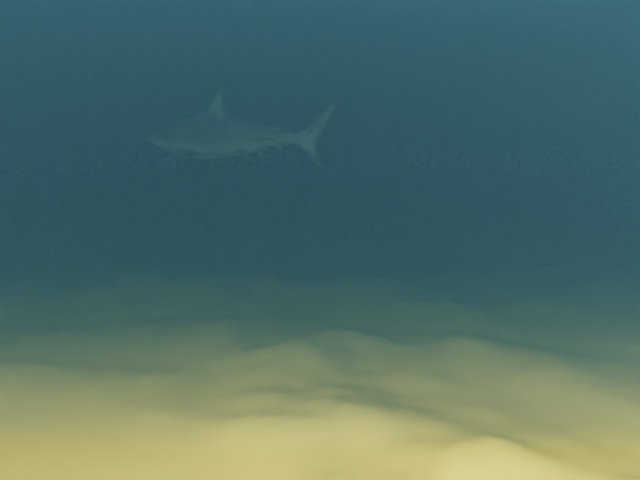Carribean Shark.001: (147, 86, 342, 167)
